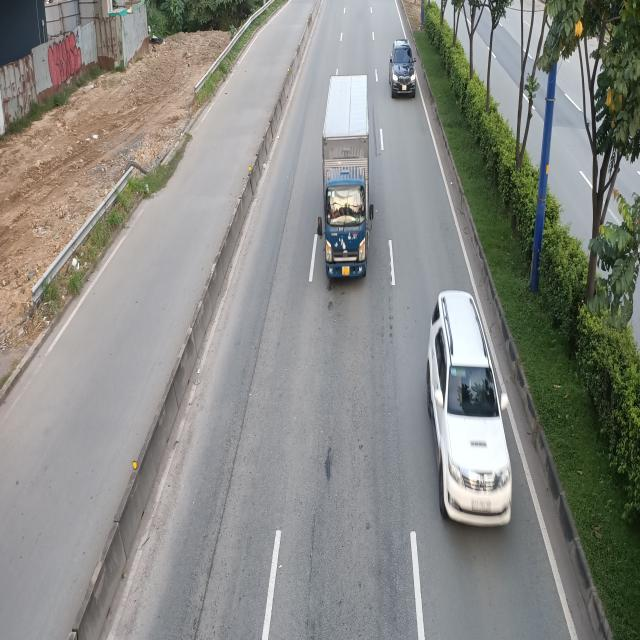car: (423, 293, 509, 532), (388, 38, 416, 98)
truck: (318, 73, 376, 278)
